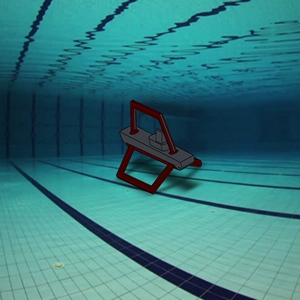submarine: (102, 95, 208, 197)
